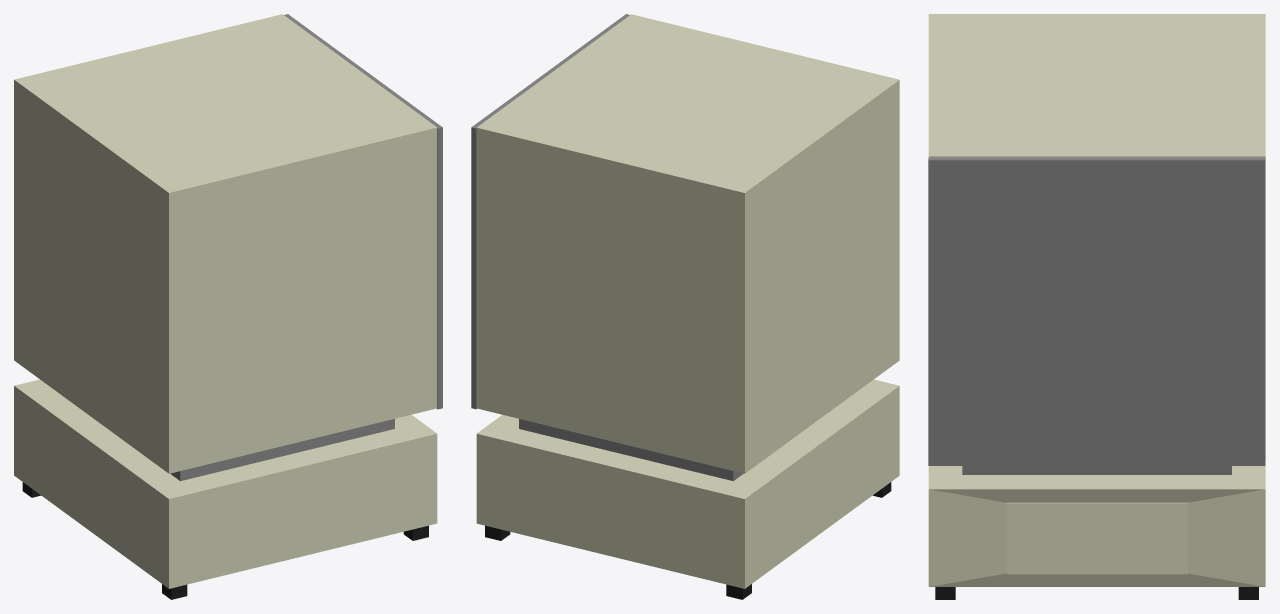
File: Forno v3.fbx
The picture shows the model from 3 angles, left to right: view 1: azimuth 30°, elevation 25°; view 2: azimuth 150°, elevation 25°; view 3: azimuth 270°, elevation 25°; orthographic projection. The views are drawn at different scales.
Parts seen in each view (by area): view 1: Forno, Cube.001, Porta, Cube.002; view 2: Forno, Cube.001, Porta, Cube.002; view 3: Porta, Forno, Cube.001, Cube.002.
Part boxes in pixels (x1,y1,x2,y2): Forno: (14,14,437,473); Cube.001: (14,379,437,588); Porta: (284,14,442,409); Cube.002: (170,419,394,480); Forno: (476,14,899,473); Cube.001: (476,379,899,588); Porta: (471,14,629,409); Cube.002: (519,419,743,481); Porta: (928,158,1265,465); Forno: (928,14,1265,461); Cube.001: (928,462,1265,586); Cube.002: (962,466,1231,474).
Size of the model in its own units: 56.3 by 80.69 by 55.23.
